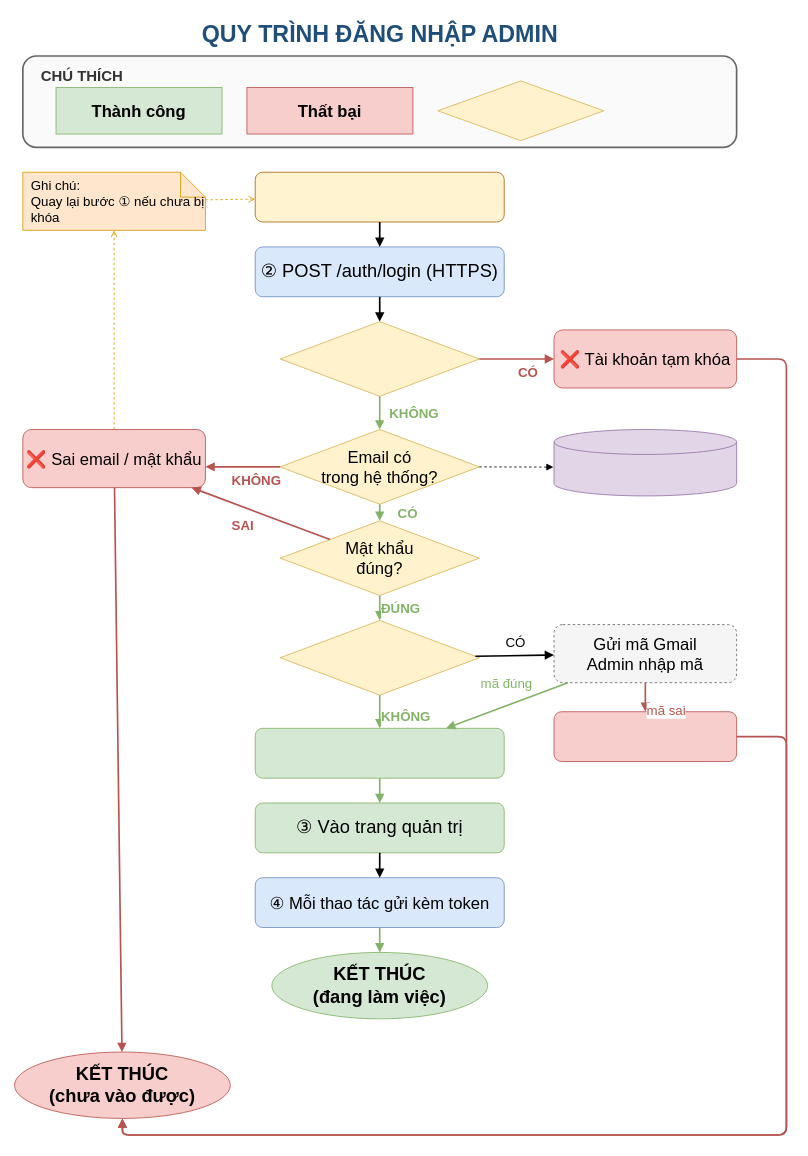
The diagram is 808 pixels wide and 1156 high, and some of its shapes have lost their labels. Each missing label, with the centre of its shape:
Bật xác thực Gmail?: the point at 379,657
Kiểm tra: the point at 520,110
Tra PostgreSQL so sánh mật khẩu: the point at 645,462
Tài khoản bị khóa?: the point at 379,358
① Nhập email + mật khẩu: the point at 379,196
✅ Cấp JWT token: the point at 379,752
❌ Mã sai / hết hạn: the point at 645,736
